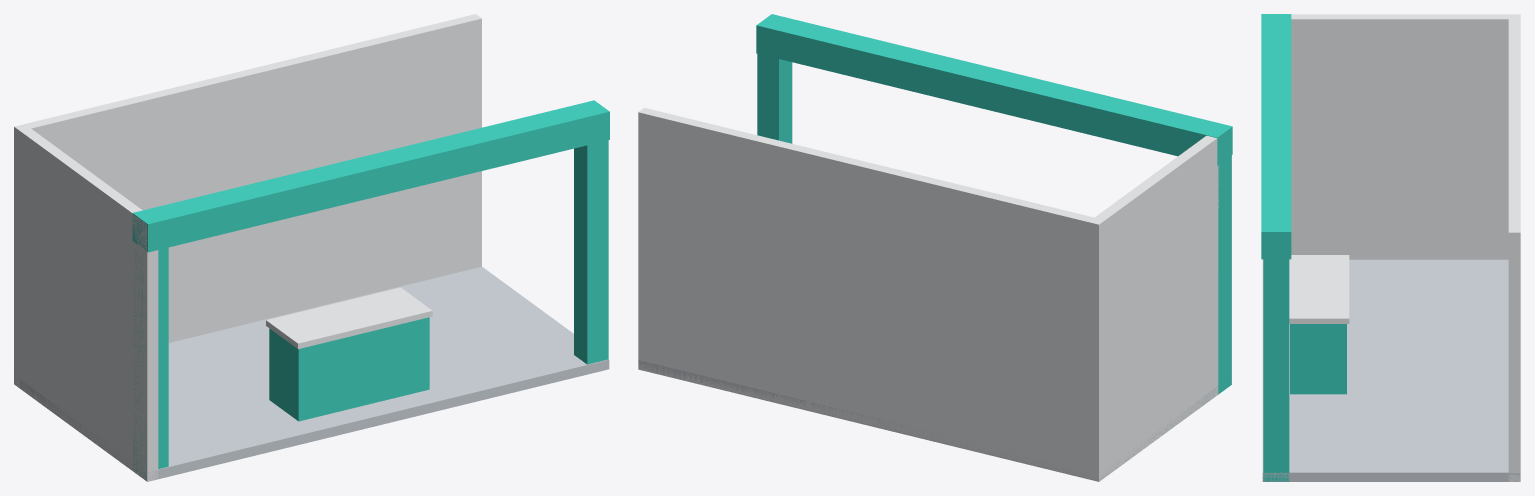
3 views of the same model, side by side, from view 1: azimuth 30°, elevation 25°; view 2: azimuth 150°, elevation 25°; view 3: azimuth 270°, elevation 25° (orthographic). The views are drawn at different scales.
Parts seen in each view (by area): view 1: Exhibition Booth Concept; view 2: Exhibition Booth Concept; view 3: Exhibition Booth Concept.
Boxes of the visible parts, x1,y1,x2,y2 form: Exhibition Booth Concept: (14, 14, 609, 481); Exhibition Booth Concept: (638, 14, 1232, 481); Exhibition Booth Concept: (1261, 14, 1520, 481).
Size of the model in its own units: 6 by 3.2 by 3.01.
